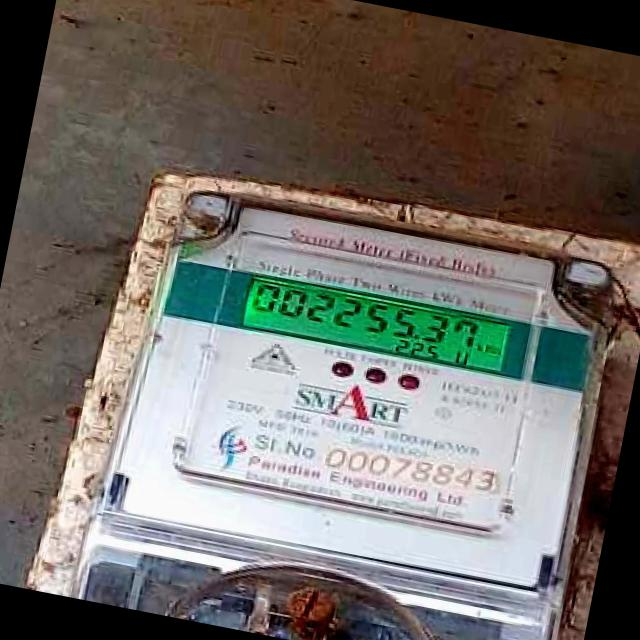LCD: (228, 262, 528, 384)
